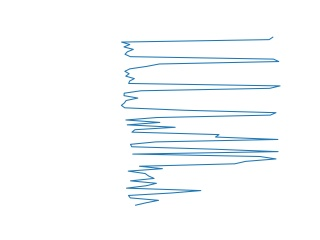crevasseRiverChannelBar: (120, 157, 263, 207)
majorRiverBedLagDeposit: (122, 121, 284, 165)
majorRiverChannelBar: (116, 34, 283, 119)
